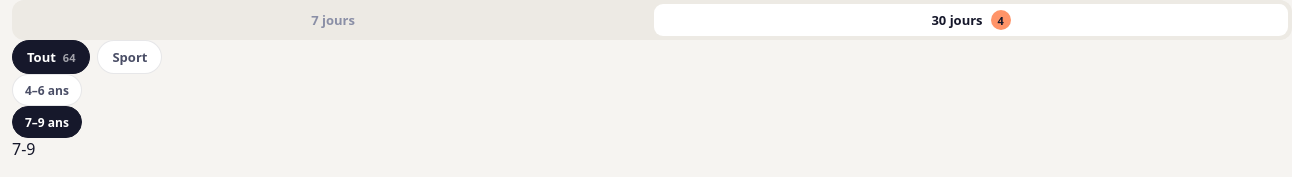
Test: composants › segmenté, puces, puces multiples
Later steps or results of the test are not shown.
What coordinates should you click on to do the following:
click the tab "7 jours"
I would click on:
 (333, 20)
Its box is [16,4,650,36].
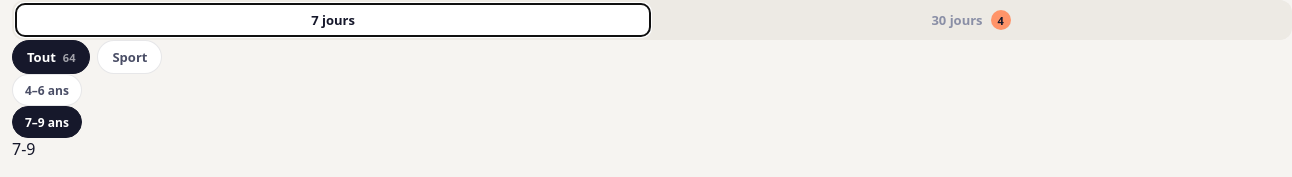
What coordinates should you click on to do the following:
click the button "Sport"
I would click on:
 (130, 57)
Its box is [98,40,162,74].
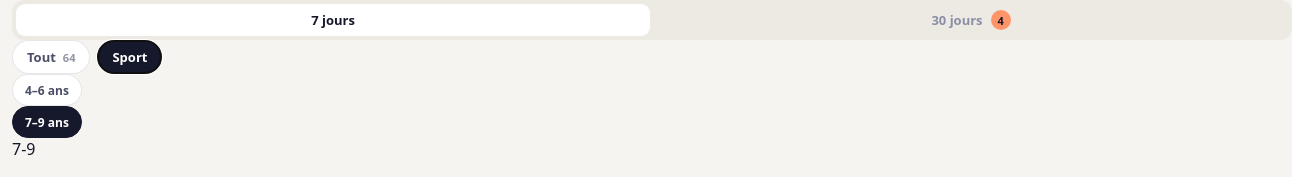
What coordinates should you click on to do the following:
click the button "4–6 ans"
I would click on:
 (47, 90)
Its box is [12,74,82,106].
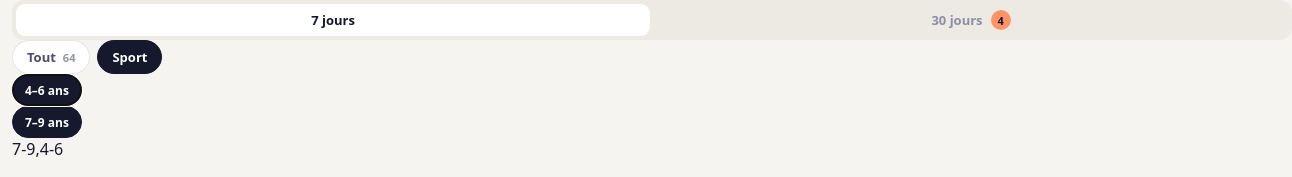
What coordinates should you click on to do the following:
click the button "7–9 ans"
I would click on:
 (47, 122)
Its box is [12,106,82,138].
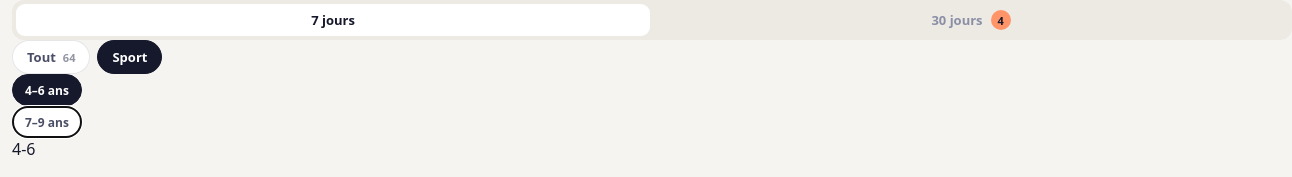
Result: the text "4-6" is shown at [12,138,36,160]
